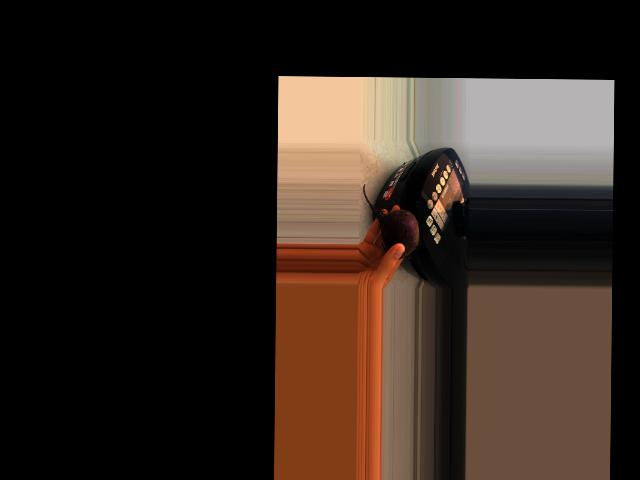beet: (362, 184, 422, 258)
